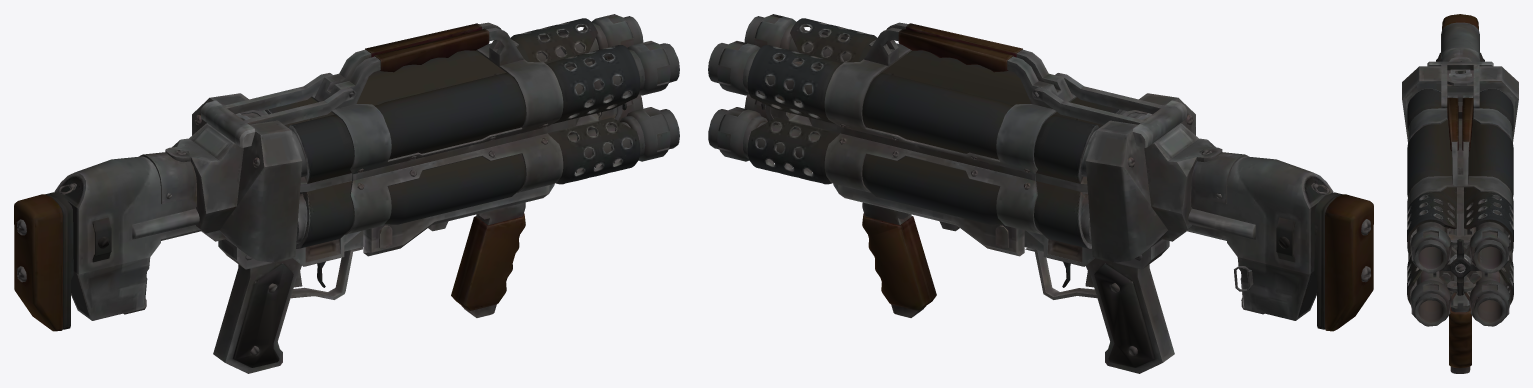
The model's file is shotgun.opt.glb.
3 views of the same model, side by side, from view 1: azimuth 30°, elevation 25°; view 2: azimuth 150°, elevation 25°; view 3: azimuth 270°, elevation 25° (orthographic). The views are drawn at different scales.
Parts seen in each view (by area): view 1: QShotgun_Frame_Quad_Shotgun_0; view 2: QShotgun_Frame_Quad_Shotgun_0; view 3: QShotgun_Frame_Quad_Shotgun_0.
Boxes of the visible parts, box(x1,y1,x2,y2) form: QShotgun_Frame_Quad_Shotgun_0: box(14, 14, 679, 373); QShotgun_Frame_Quad_Shotgun_0: box(708, 14, 1373, 373); QShotgun_Frame_Quad_Shotgun_0: box(1402, 14, 1518, 373).
Bounding box in the file's own units: 101 × 43.35 × 20.01.
2 materials, 2 textured.
